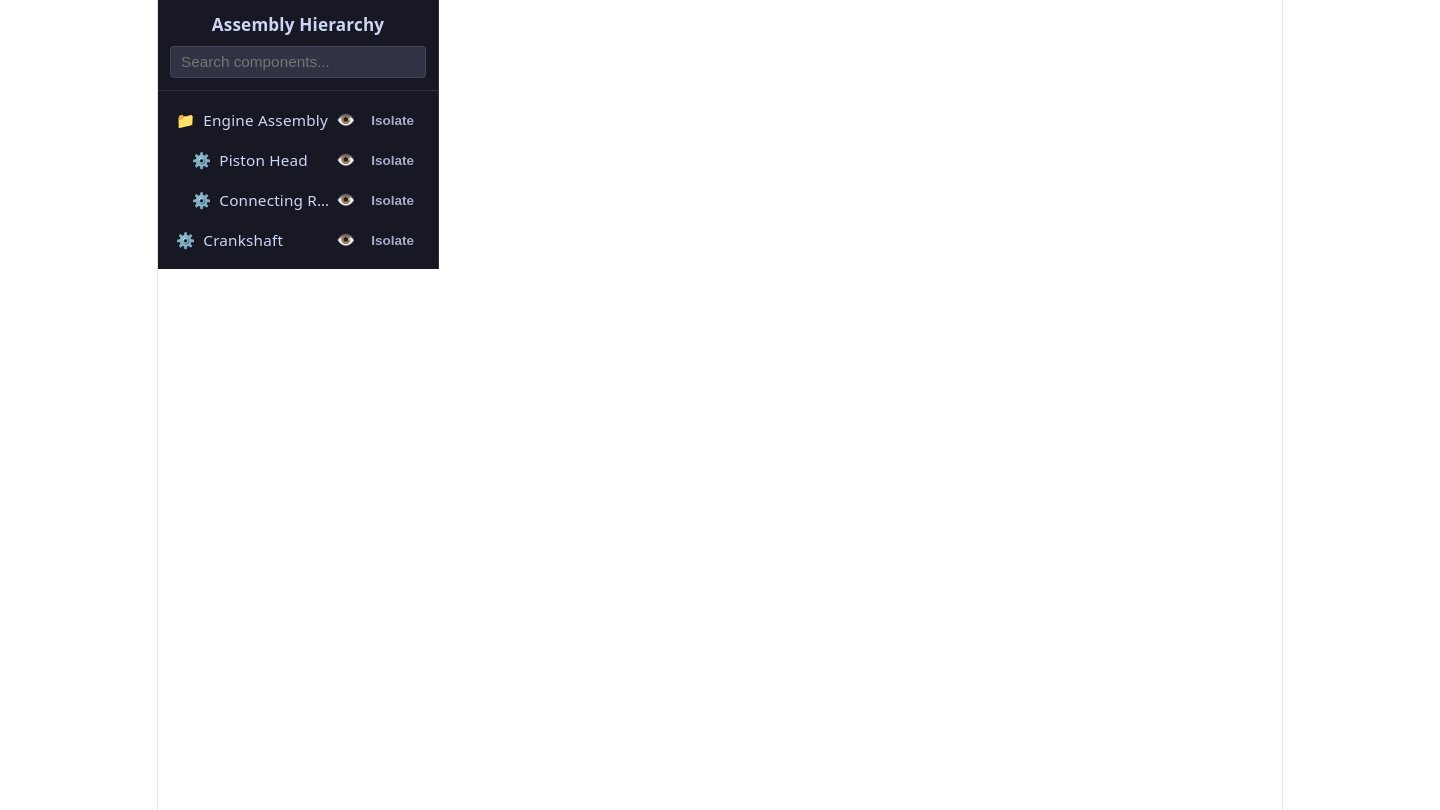
Test: AssemblyTree component › filters assembly nodes live as user types in search input
Type "Crank" into the field with placeholder "Search components...". click: (298, 62)
box: 170,46 -> 426,78
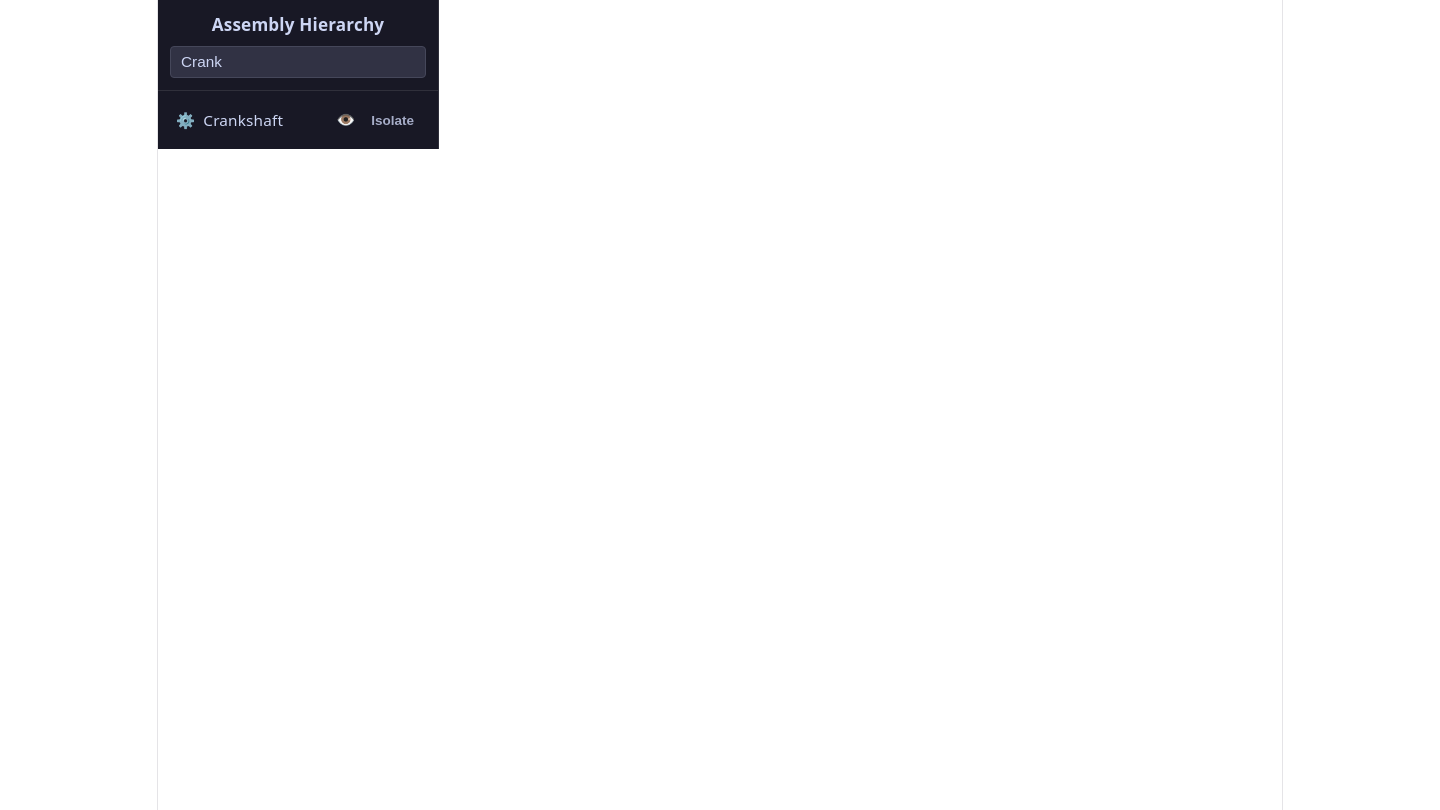
Expected: the text "Crankshaft" is shown, 203,107 -> 283,133
Result: the text "Engine Assembly" is gone
